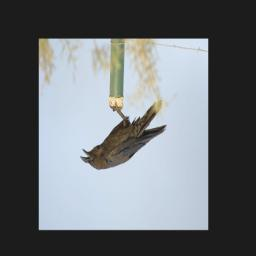Crow: (79, 100, 169, 174)
